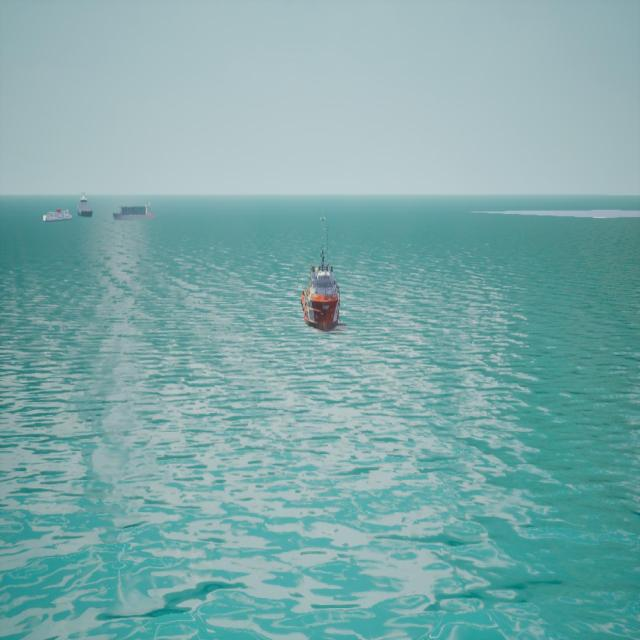tug boat: (302, 218, 343, 334)
